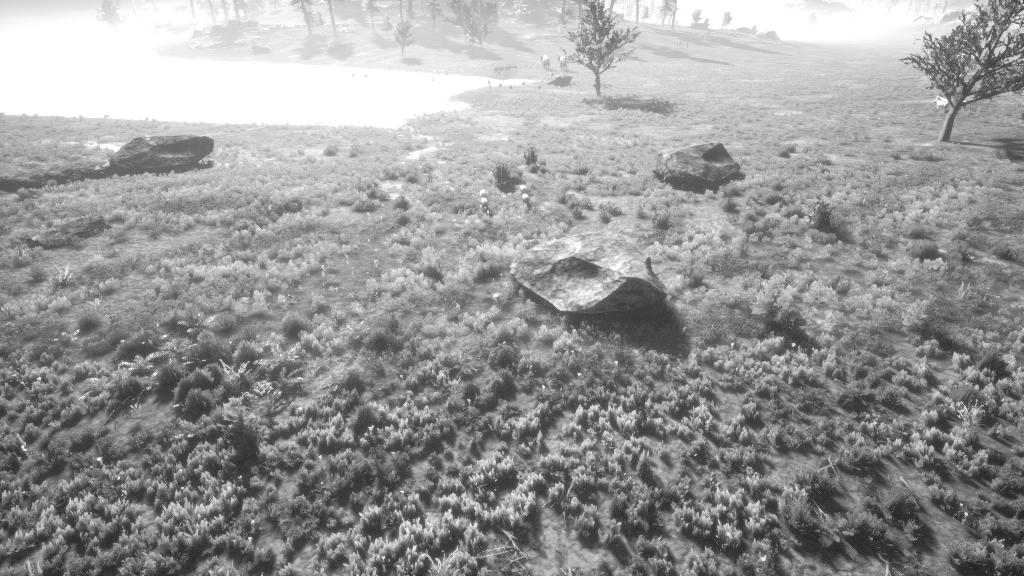Fire: (555, 21, 567, 35)
elephant: (534, 52, 554, 72), (557, 54, 570, 72)
pig: (475, 195, 493, 213), (516, 181, 531, 195), (475, 187, 489, 199), (521, 191, 531, 206)
zebra: (930, 96, 950, 113)
